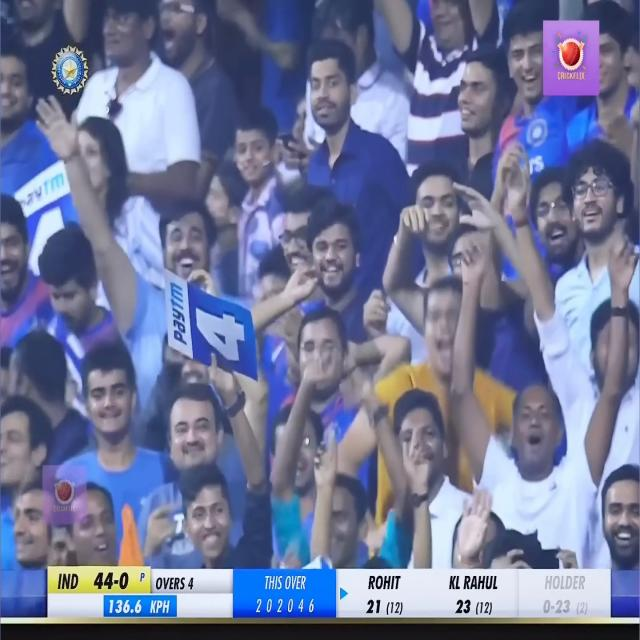fully_visible: (158, 264, 202, 366)
partially_visible: (12, 177, 73, 215)
